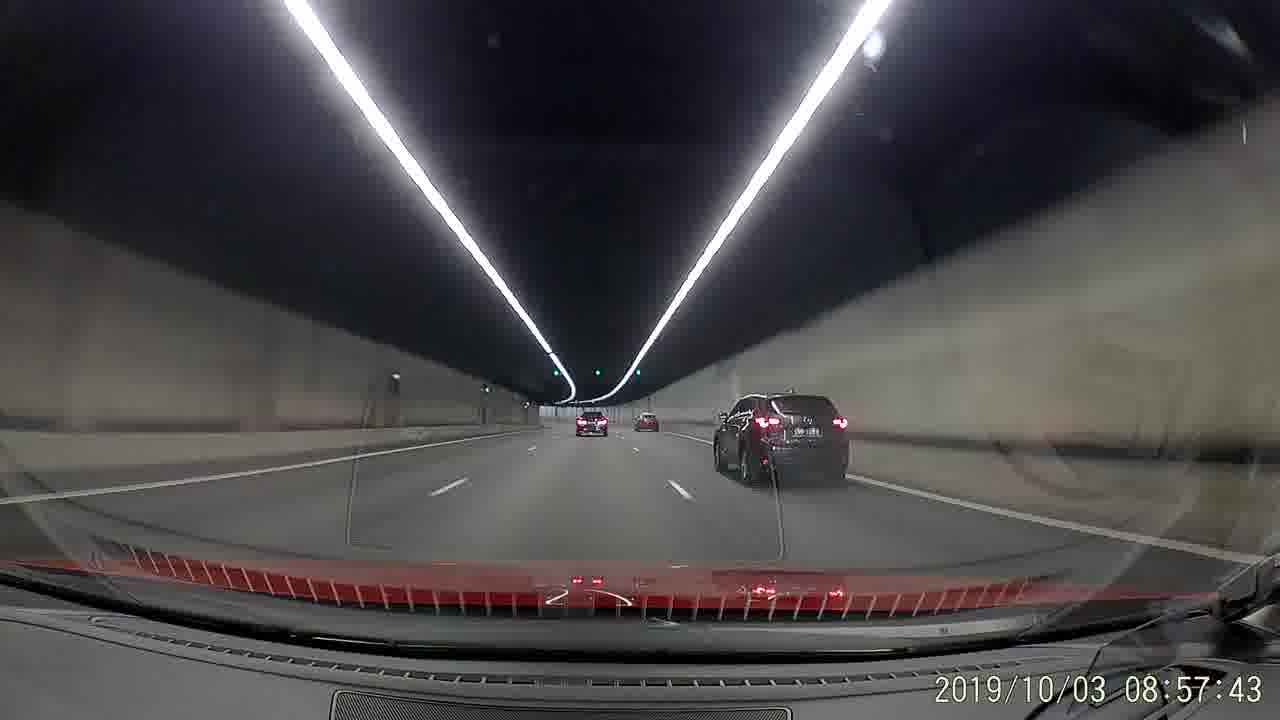car: (707, 391, 849, 486), (573, 409, 608, 436), (631, 410, 662, 432)
